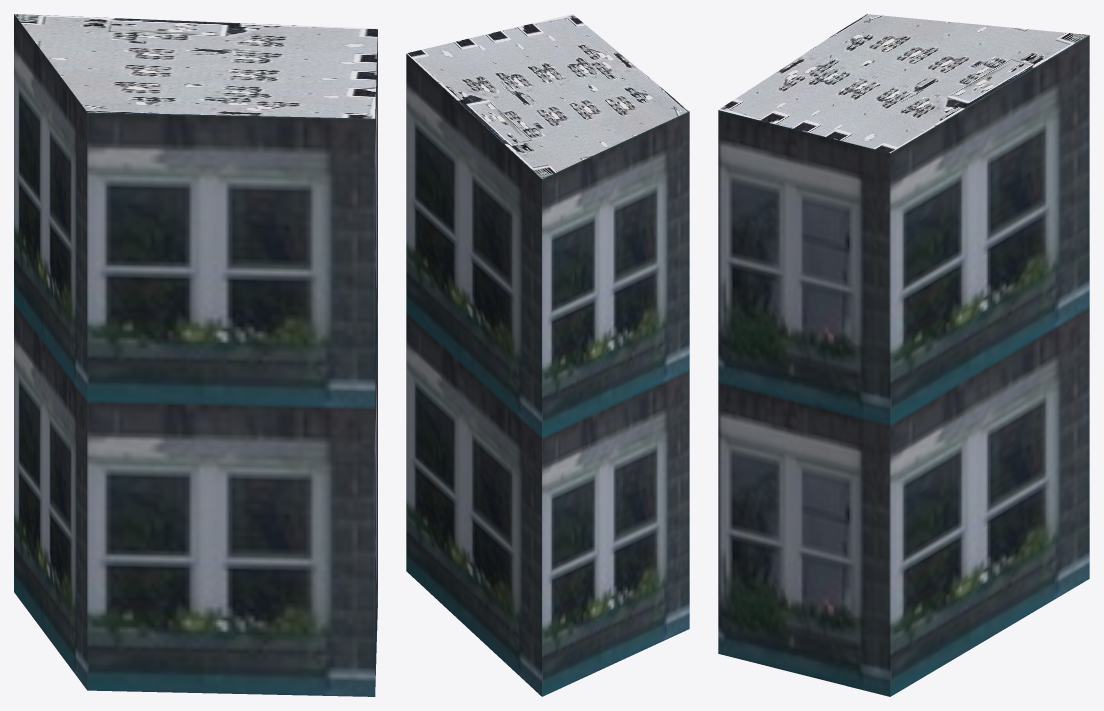
The model's file is ResTex__728.fbx.
The picture shows the model from 3 angles, left to right: view 1: azimuth 30°, elevation 25°; view 2: azimuth 150°, elevation 25°; view 3: azimuth 270°, elevation 25°; orthographic projection. The views are drawn at different scales.
Parts seen in each view (by area): view 1: CityEngineMaterial_11_m, CityEngineMaterial_4_m; view 2: CityEngineMaterial_11_m, CityEngineMaterial_4_m; view 3: CityEngineMaterial_11_m, CityEngineMaterial_4_m.
Boxes of the visible parts, <box> form: CityEngineMaterial_11_m: <box>14,14,377,696</box>; CityEngineMaterial_4_m: <box>14,14,377,118</box>; CityEngineMaterial_11_m: <box>406,54,689,696</box>; CityEngineMaterial_4_m: <box>406,14,689,178</box>; CityEngineMaterial_11_m: <box>718,35,1089,696</box>; CityEngineMaterial_4_m: <box>719,14,1088,152</box>.
Bounding box in the file's own units: 3.3 × 6 × 3.72.
Materials: 2 (2 with a texture image).
